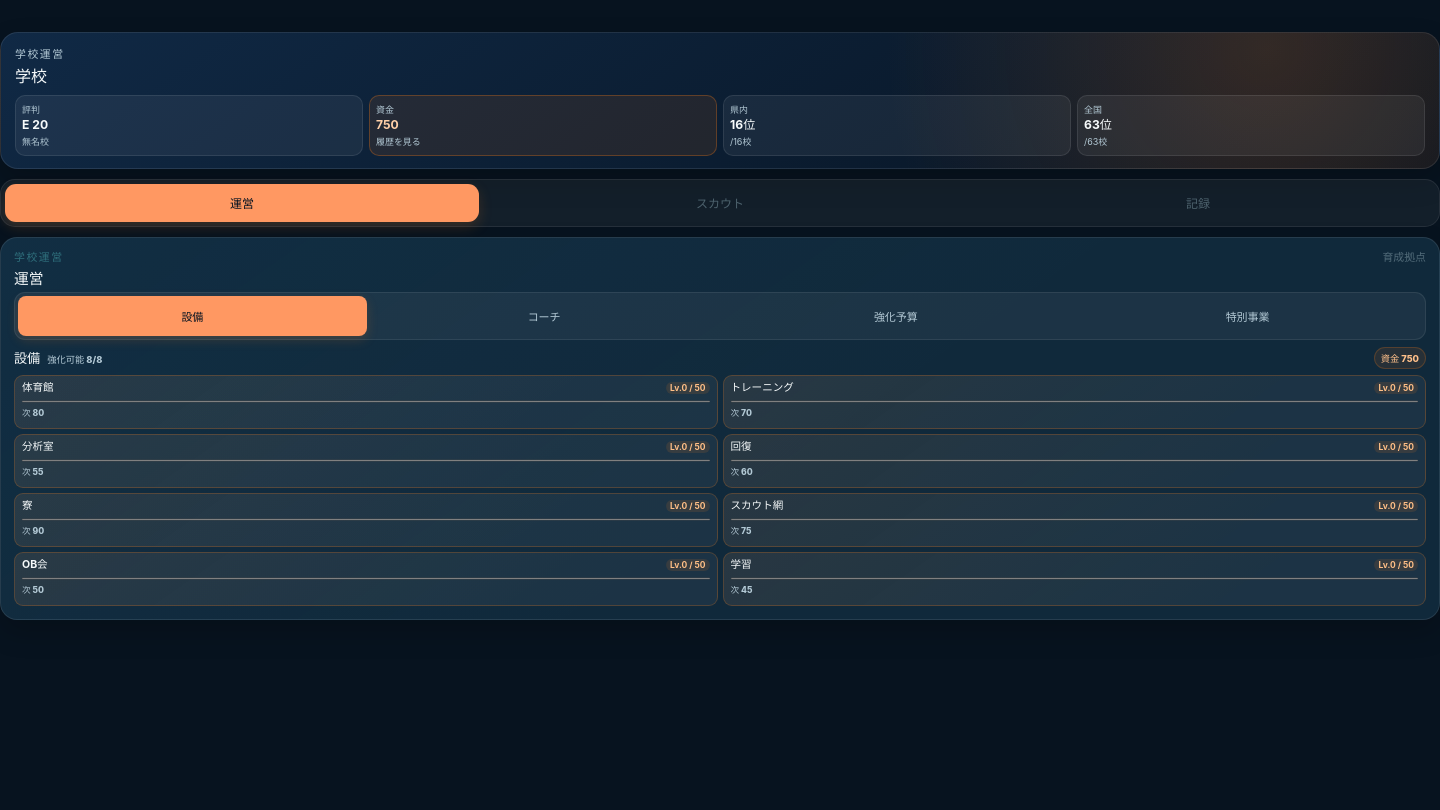
Test case: school management screen › shows current season goals and regional/national ranking progression in records
This screenshot has width=1440, height=810.
Click the tab "記録".
click(1198, 203)  # box [961,184,1435,222]
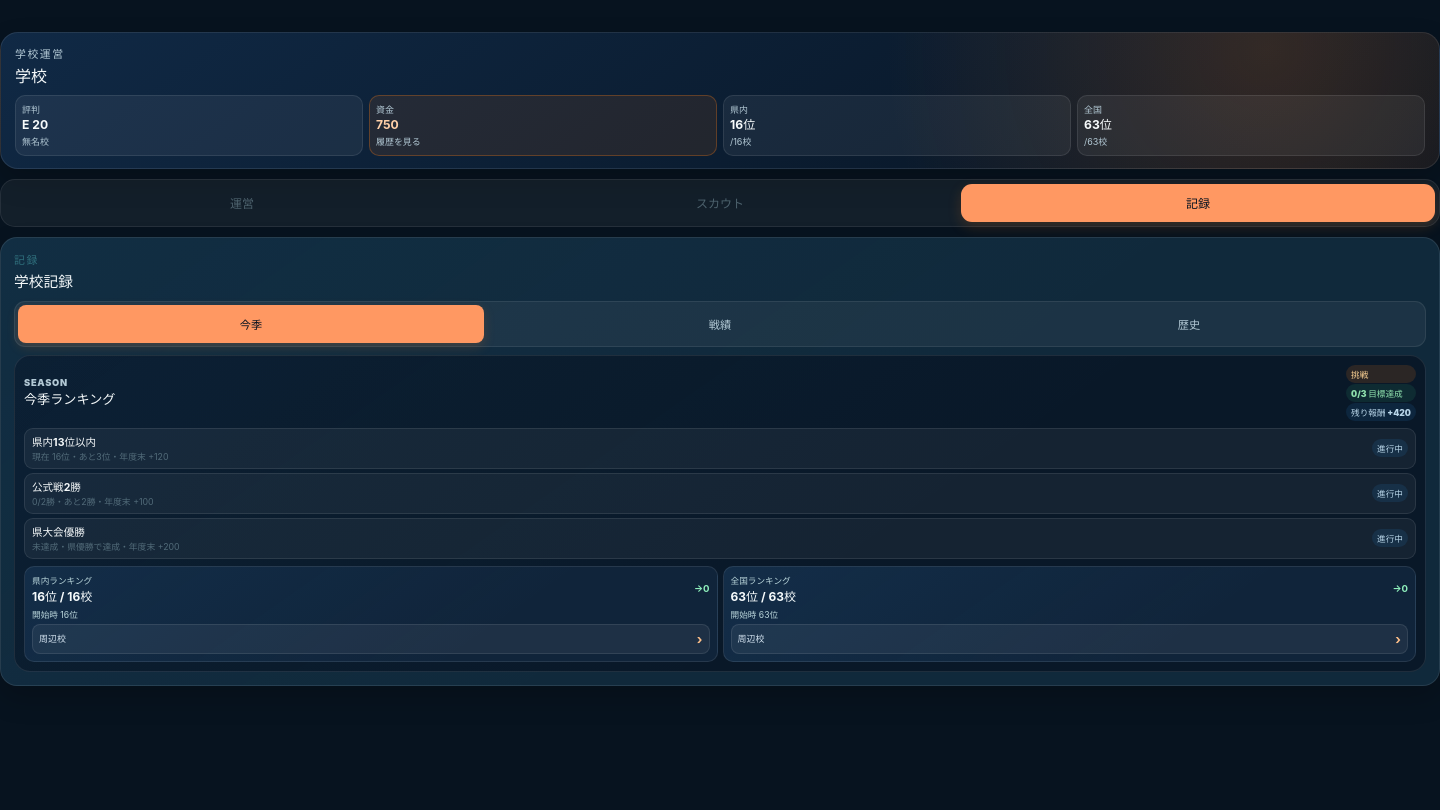
Check: the element "今季ランキング" is shown, box [14,355,1426,672]
Check: the element "今季ランキング" shows "挑戦", box [1351,370,1368,380]
Check: the text "県大会優勝" is shown, box [32,526,85,539]
